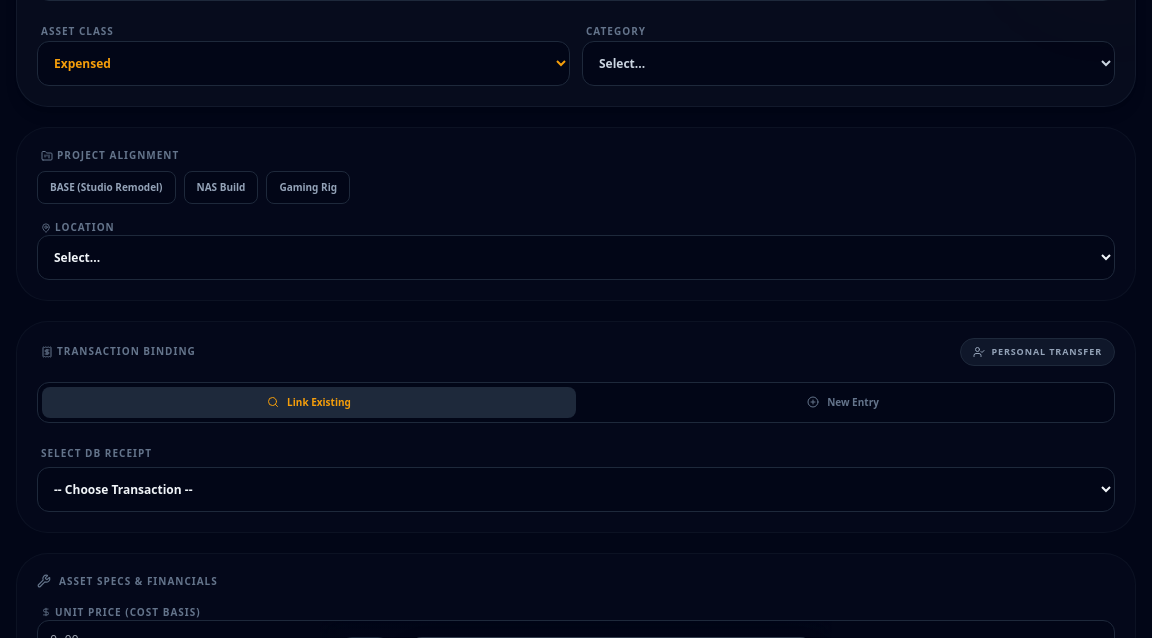
Scenario: BATS intake UI › sets owner-equity transaction details for personal transfers
The width and height of the screenshot is (1152, 638).
(page scrolled)
Click the button "Personal Transfer". click: (1038, 352)
box: [960,338,1115,366]
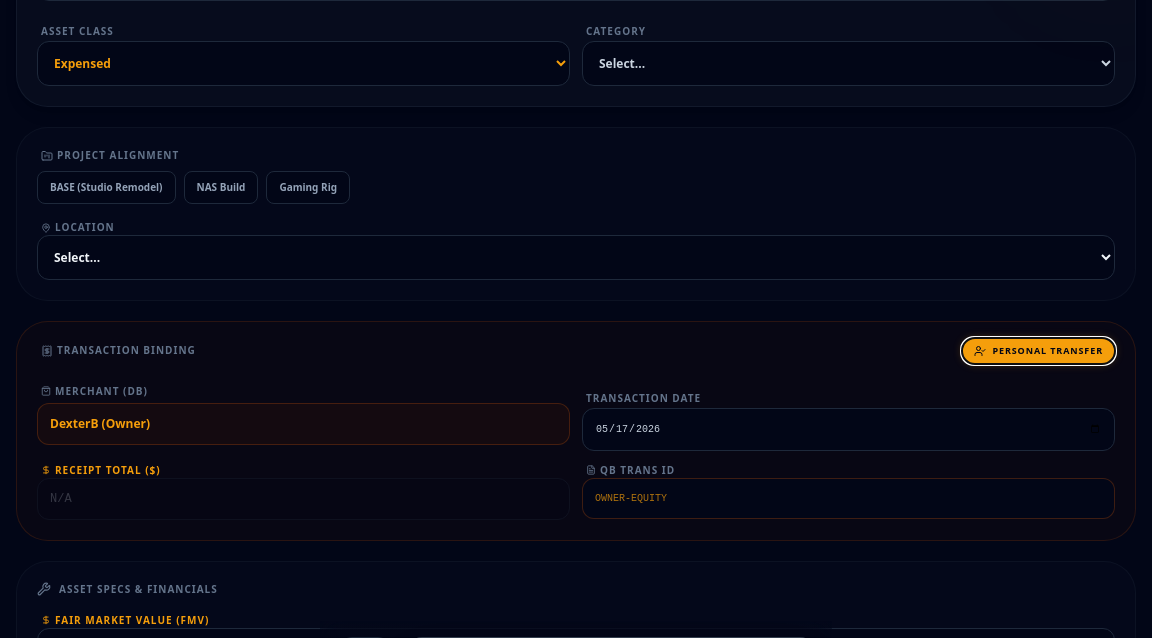
Now the text "DexterB (Owner)" is shown, box [37,402,570,444]
